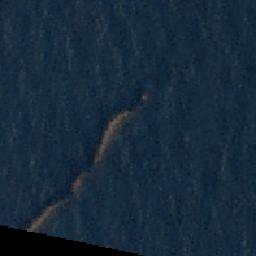debris: (42, 193, 69, 218), (69, 171, 92, 194), (113, 107, 137, 126), (103, 123, 119, 147), (27, 214, 47, 231), (94, 141, 108, 163), (139, 93, 151, 101)
